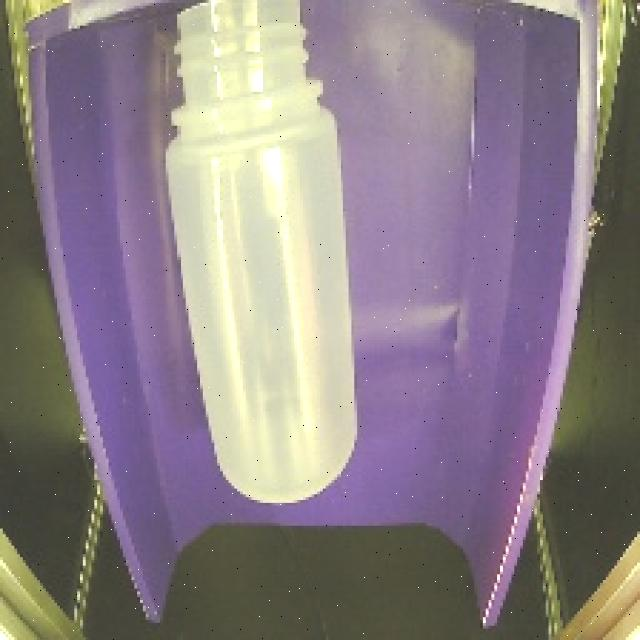plastic: (150, 0, 374, 519)
